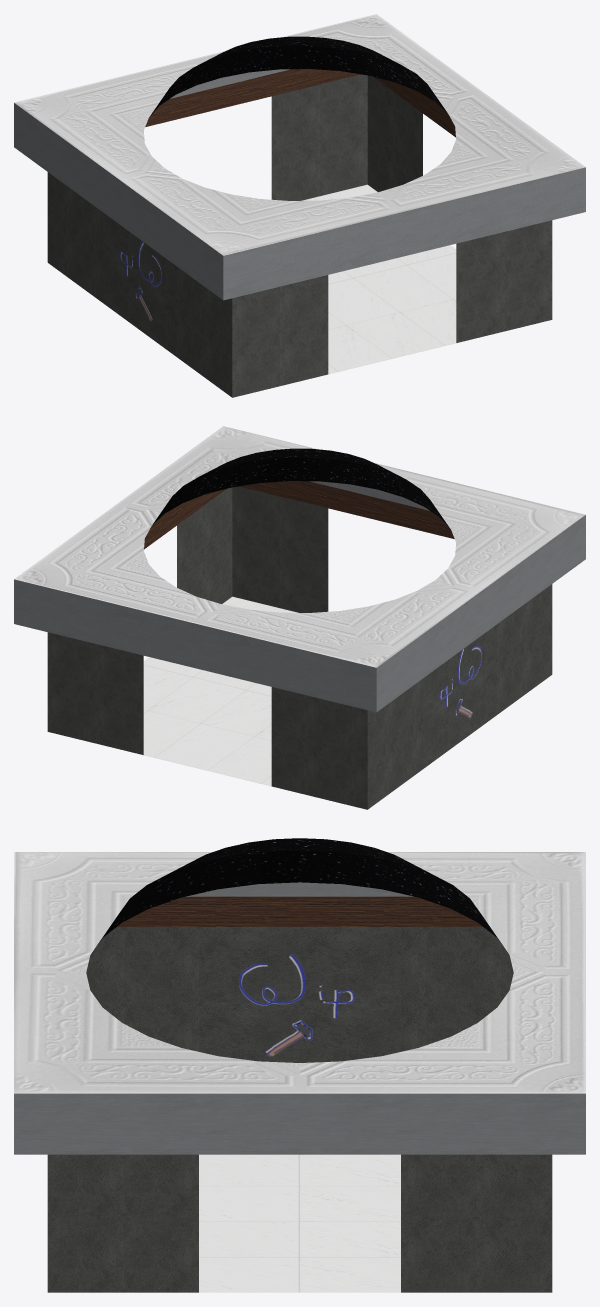
The model's file is hall.gltf.
3 renders of one model, top to bottom at view 1: azimuth 30°, elevation 25°; view 2: azimuth 150°, elevation 25°; view 3: azimuth 270°, elevation 25°, orthographic. The views are drawn at different scales.
Visible parts, largest first — view 1: Plafond, Mur et sol; view 2: Plafond, Mur et sol; view 3: Plafond, Mur et sol.
Boxes of the visible parts, x1=… form: Plafond: x1=14, y1=14, x2=585, y2=300; Mur et sol: x1=47, y1=74, x2=552, y2=397; Plafond: x1=14, y1=426, x2=585, y2=712; Mur et sol: x1=47, y1=486, x2=552, y2=809; Plafond: x1=14, y1=838, x2=585, y2=1154; Mur et sol: x1=47, y1=927, x2=552, y2=1292.
Size of the model in its own units: 17 by 10.5 by 17.
7 materials, 7 textured.
